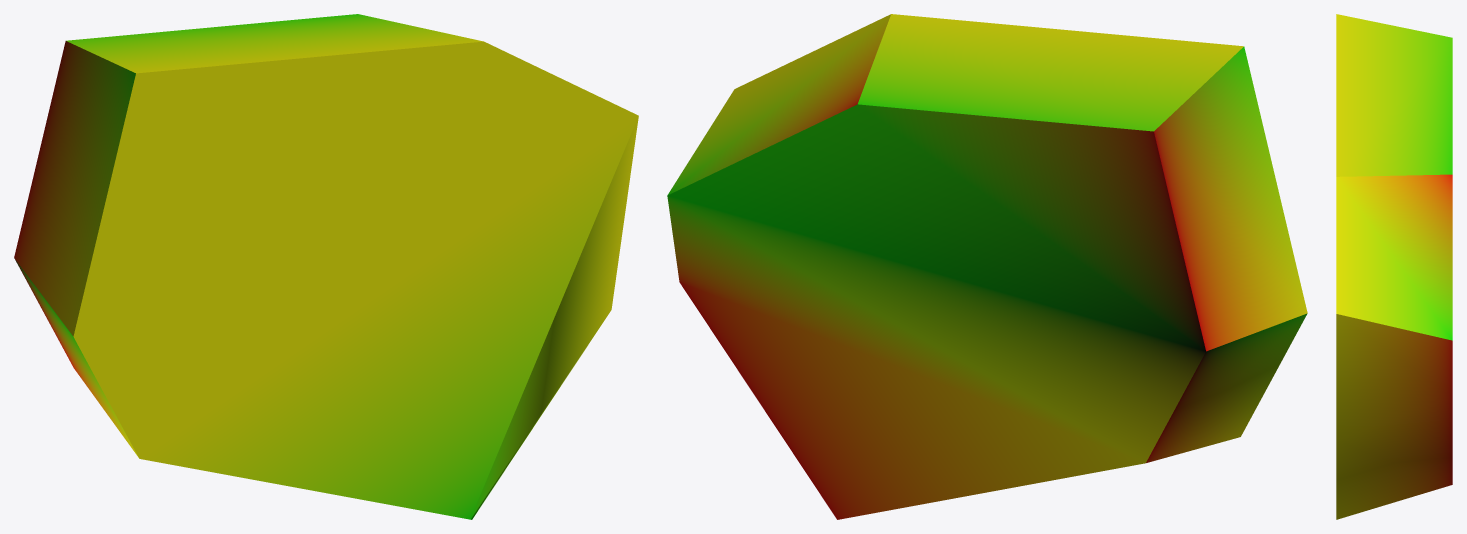
File: Part_3_broken wall_08.fbx
The picture shows the model from 3 angles, left to right: view 1: azimuth 30°, elevation 25°; view 2: azimuth 150°, elevation 25°; view 3: azimuth 270°, elevation 25°; orthographic projection. The views are drawn at different scales.
Visible parts, largest first — view 1: Part_3_broken wall_08; view 2: Part_3_broken wall_08; view 3: Part_3_broken wall_08.
Part boxes in pixels (x1,y1,x2,y2): Part_3_broken wall_08: (14,14,638,519); Part_3_broken wall_08: (667,14,1307,519); Part_3_broken wall_08: (1336,14,1452,519).
Size of the model in its own units: 8.56 by 7.65 by 2.09.
